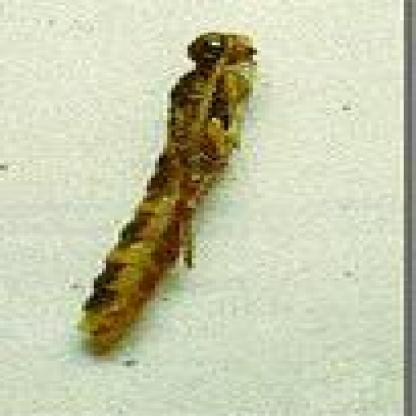sawfly: (74, 28, 271, 364)
